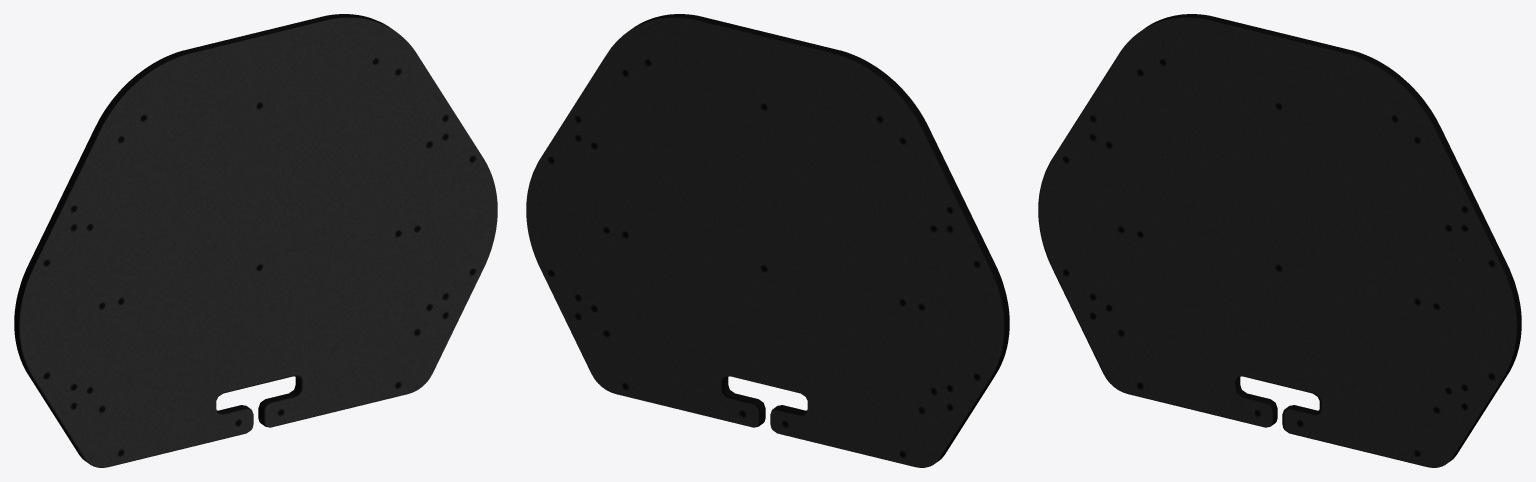
File: plate_bottom.dae
3 views of the same model, side by side, from view 1: azimuth 30°, elevation 25°; view 2: azimuth 150°, elevation 25°; view 3: azimuth 330°, elevation 25° (orthographic).
Parts seen in each view (by area): view 1: _f_stack; view 2: _f_stack; view 3: _f_stack.
Boxes of the visible parts, box(x1,y1,x2,y2) form: _f_stack: box(14, 14, 497, 467); _f_stack: box(526, 14, 1009, 467); _f_stack: box(1038, 14, 1521, 467).
Bounding box in the file's own units: 340 × 6 × 267.
1 material, 1 textured.
